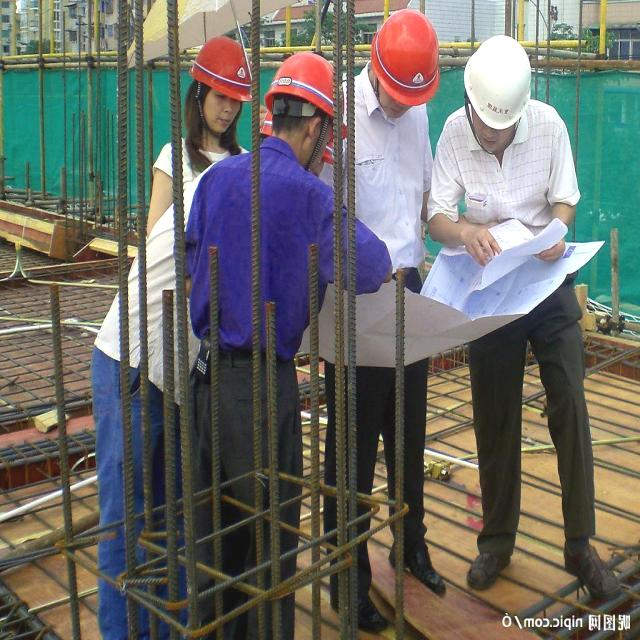face_nomask: (206, 82, 241, 136)
hand_noglove: (532, 226, 573, 274), (454, 221, 498, 265)
head_helmet: (461, 33, 539, 130), (370, 9, 441, 100), (262, 52, 347, 121), (189, 34, 257, 102)
person: (180, 46, 352, 631), (435, 4, 600, 564), (103, 38, 249, 626), (324, 8, 454, 617)
shoes: (557, 534, 624, 602), (383, 527, 448, 595), (459, 524, 522, 594), (328, 566, 390, 634)
